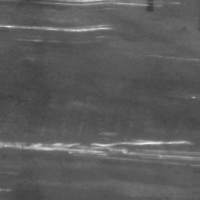scratches: (0, 129, 198, 171), (4, 18, 115, 38)
